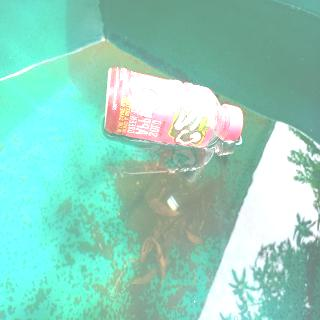bottle: (104, 65, 242, 148)
